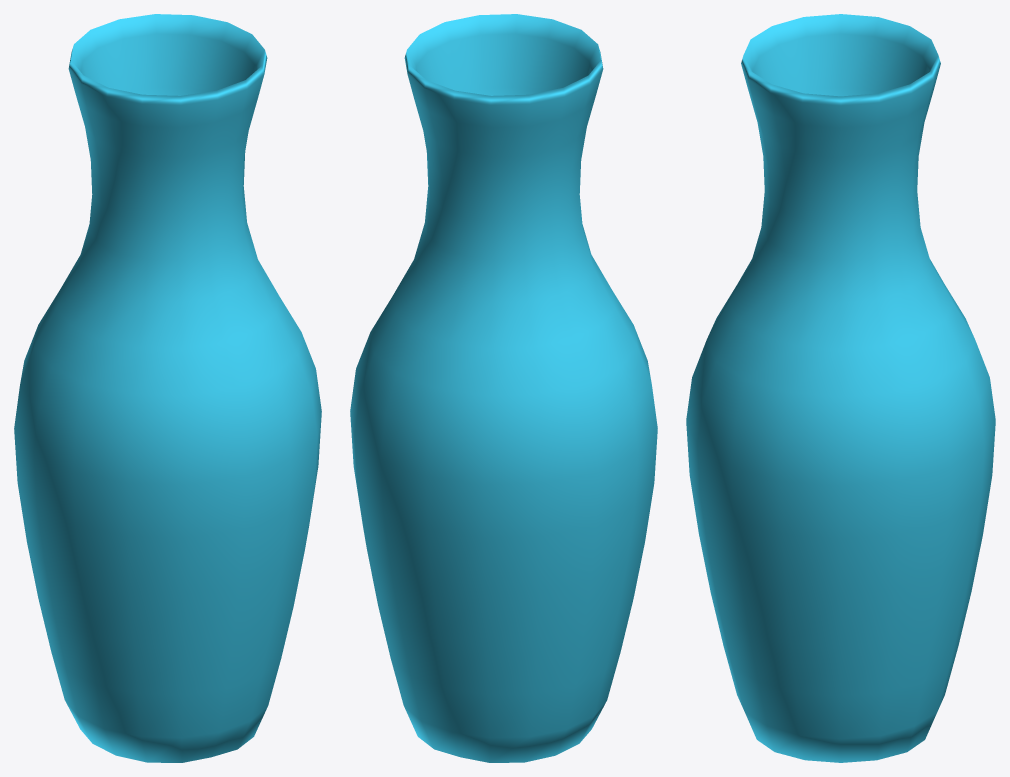
The model's file is MSH_Jarron.FBX.
3 views of the same model, side by side, from view 1: azimuth 30°, elevation 25°; view 2: azimuth 150°, elevation 25°; view 3: azimuth 270°, elevation 25° (orthographic).
Visible parts, largest first — view 1: MSH_Jarron; view 2: MSH_Jarron; view 3: MSH_Jarron.
Part boxes in pixels (x1=…): MSH_Jarron: x1=14, y1=14, x2=321, y2=762; MSH_Jarron: x1=350, y1=14, x2=657, y2=762; MSH_Jarron: x1=686, y1=14, x2=995, y2=762.
Bounding box in the file's own units: 17.14 × 40.99 × 17.14.
